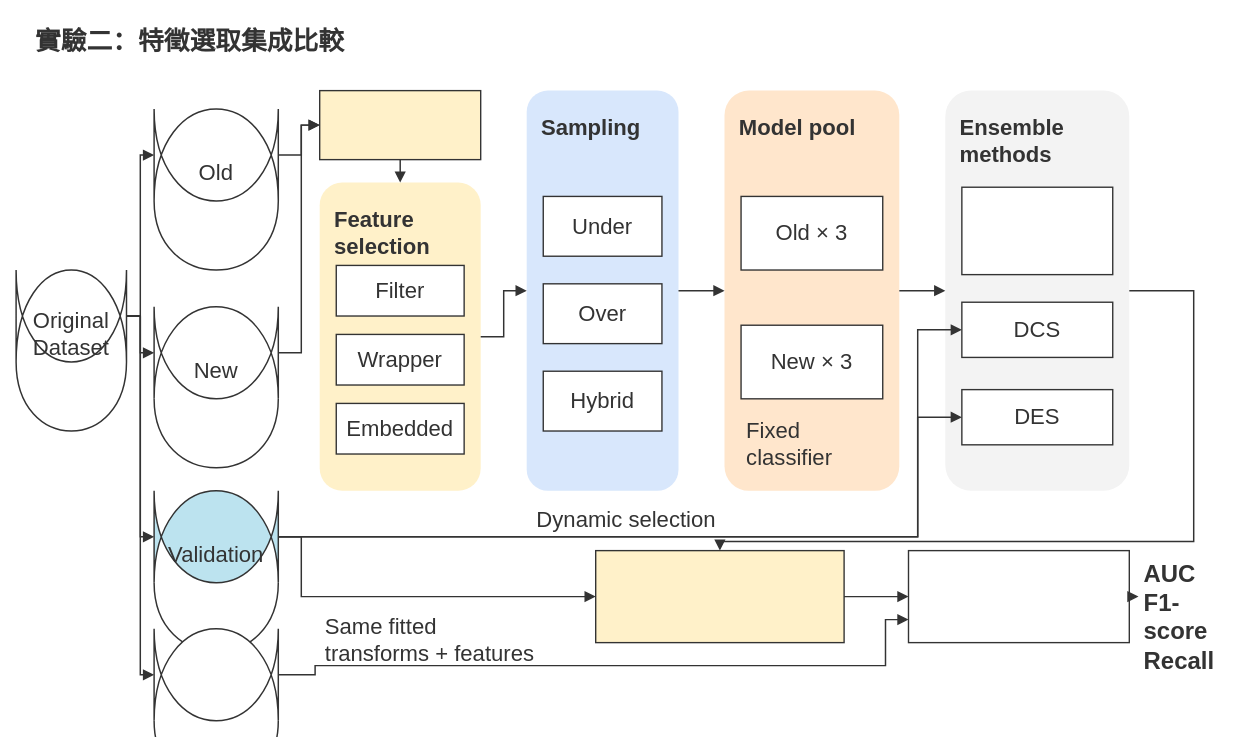
Some shapes in this 1260 by 737 pixel diagram are drawn without their labels. Each missing label, with the centre of its shape:
Preprocess: pixel 400 125
Static 49 subsets: pixel 1037 230
Test: pixel 216 674
Test inference: pixel 1018 596
Validation choices fixed: pixel 719 596
